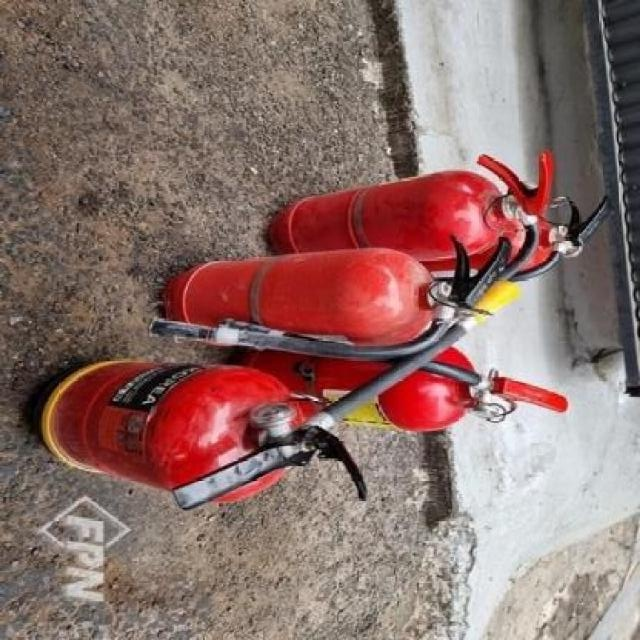fire extinguisher: (38, 281, 520, 510), (151, 234, 514, 358), (269, 150, 553, 282), (238, 345, 567, 432), (419, 194, 613, 283)
